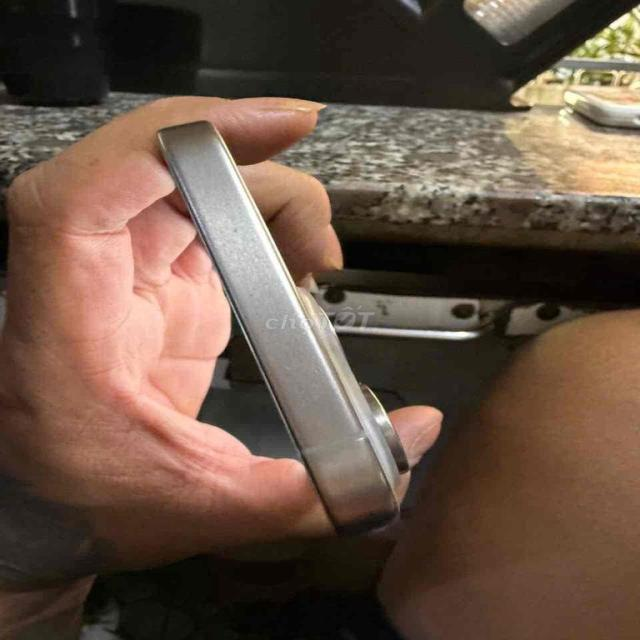gen_15: (143, 108, 408, 536)
